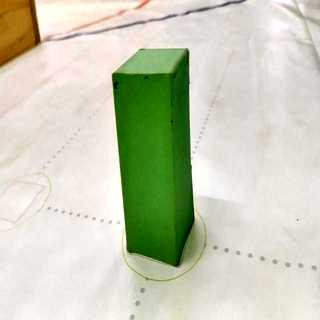greenbox: (110, 45, 198, 269)
